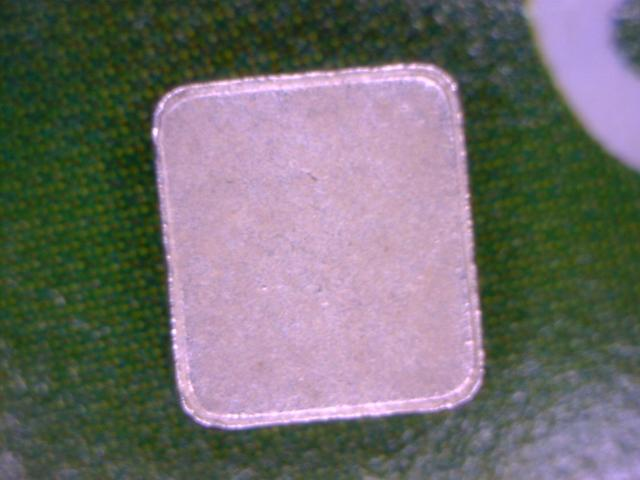nok: (150, 63, 491, 423)
